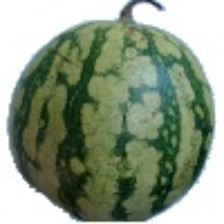watermelon: (58, 27, 208, 191)
